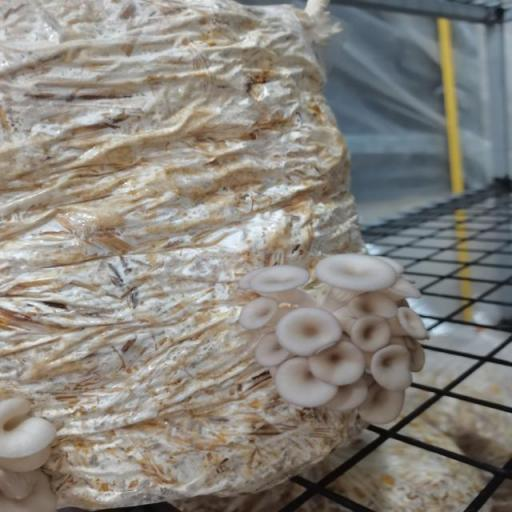White Oyster Mushroom: (232, 250, 441, 434), (0, 388, 69, 490)
